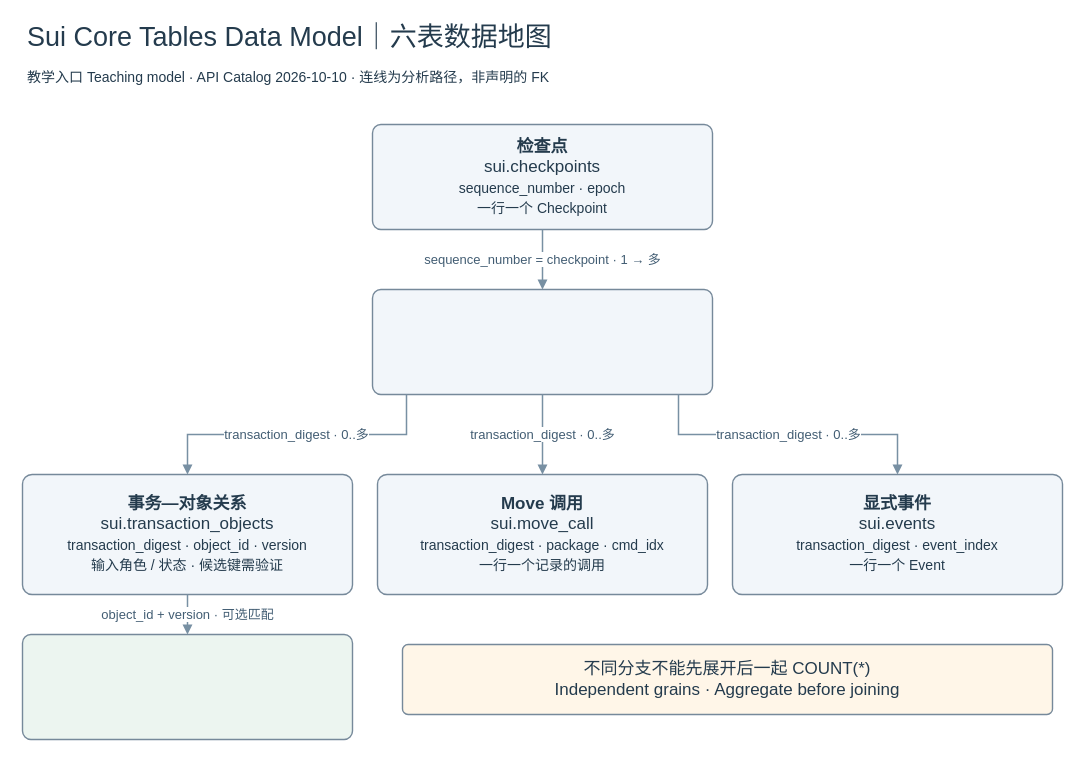
Some shapes in this 1084 by 757 pixel diagram are drawn without their labels. The shapes that lost their labels are listed below. From the top down, each one's centre as x and y in pixels, then its label:
At (542,341): "事务 sui.transactions transaction_digest · checkpoint 一行一个事务记录".
At (187,686): "对象历史 sui.objects object_id · version · owner_type 版本 / 状态记录，非单纯当前快照".
